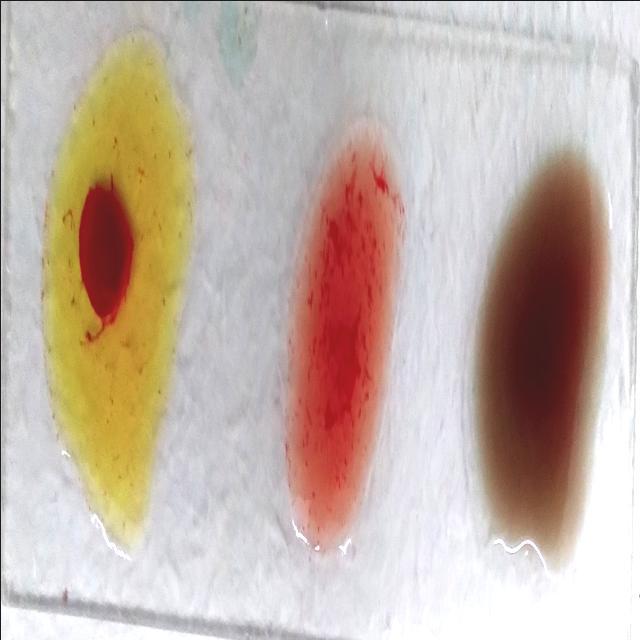B: (39, 22, 192, 568)
D: (284, 105, 404, 575)
